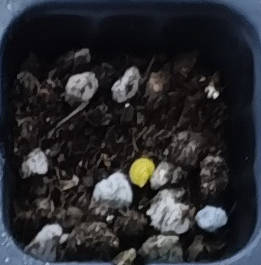pepper seed: (50, 61, 206, 251)
